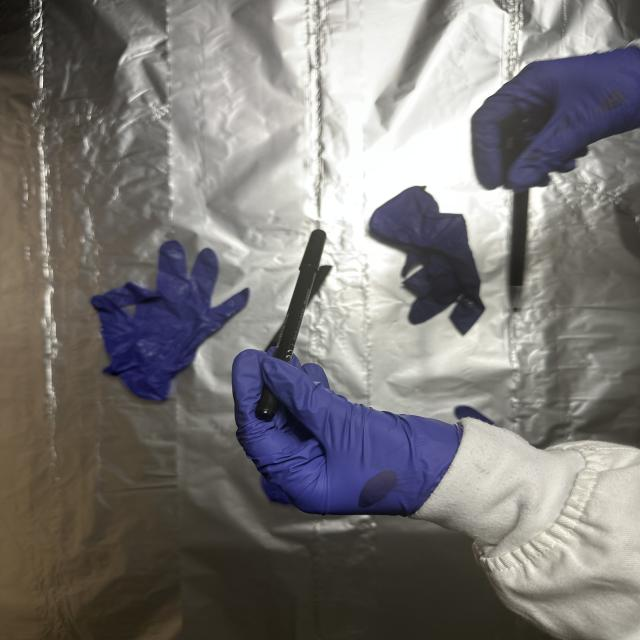gloves_contaminated: (233, 350, 462, 516), (472, 47, 640, 195)
